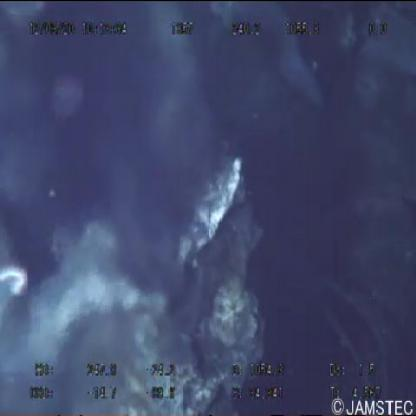Rác: (5, 174, 266, 414)
